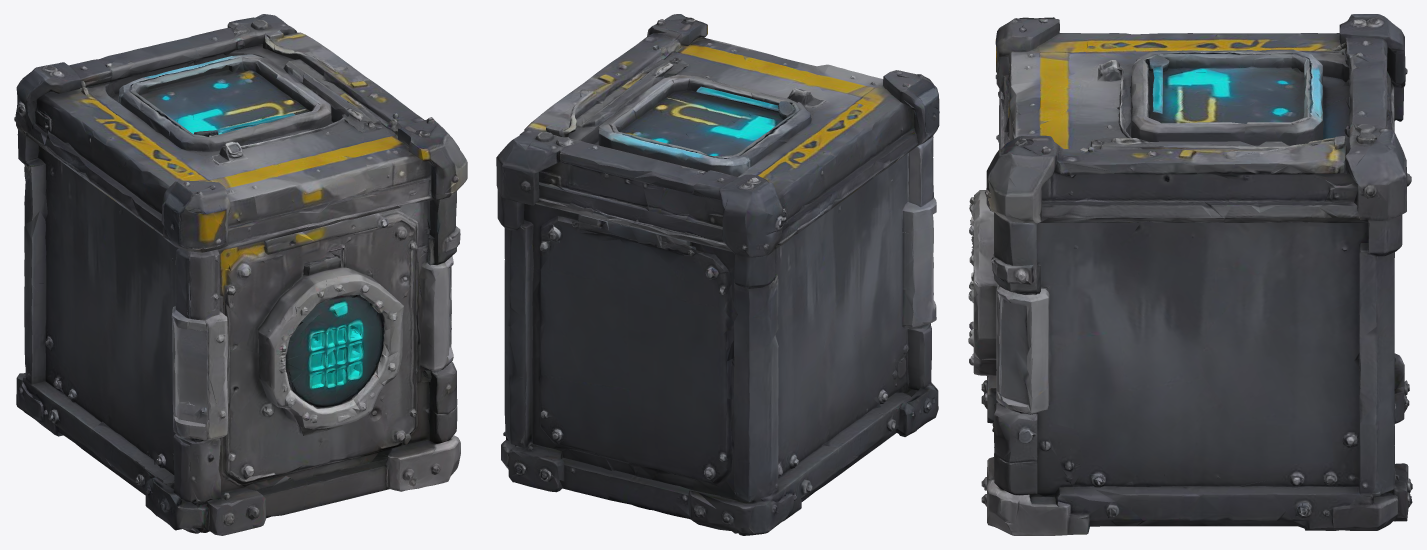
The model's file is coffre-ferme.glb.
3 views of the same model, side by side, from view 1: azimuth 30°, elevation 25°; view 2: azimuth 150°, elevation 25°; view 3: azimuth 270°, elevation 25° (orthographic). The views are drawn at different scales.
Bounding box in the file's own units: 0.8264 × 0.943 × 0.9796.
1 material, 1 textured.
